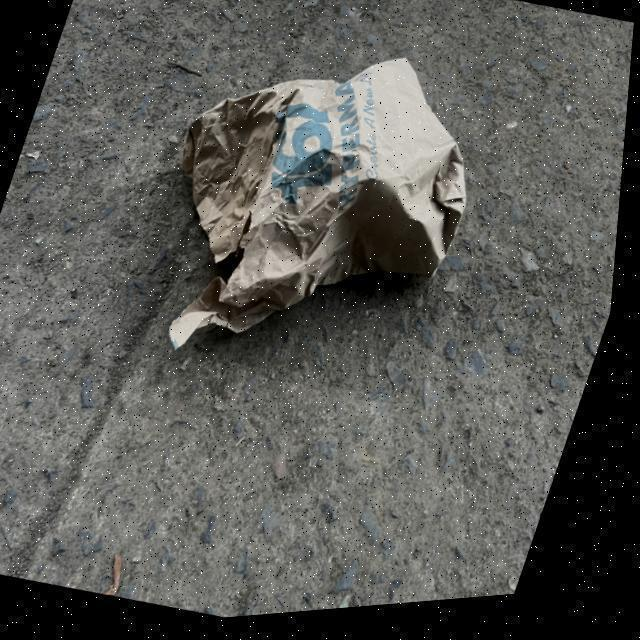Paper_Bag: (120, 11, 516, 418)
